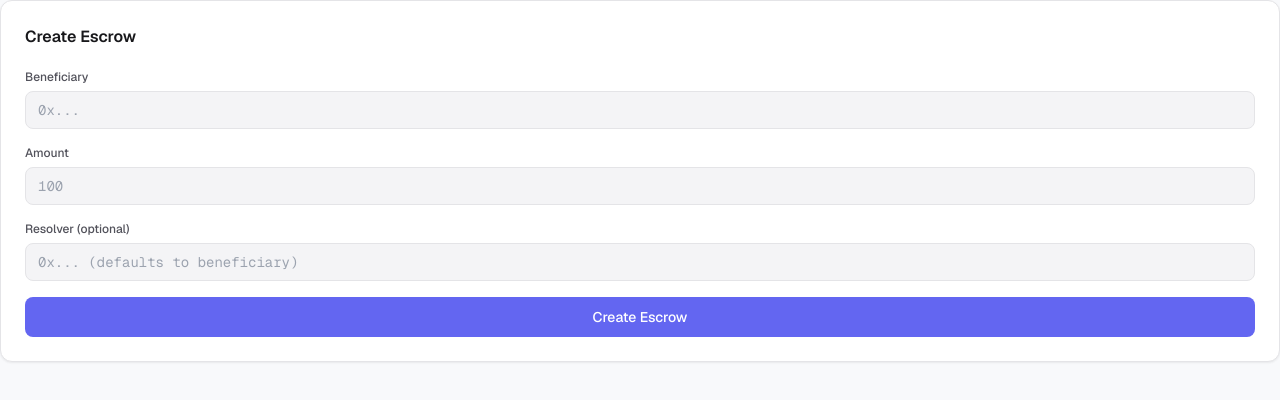
Test: CreateEscrowForm › validation prevents non-positive amount
Type "0xBen123" into the field labelled "Beneficiary" at (640, 110), box left=25, top=91, right=1255, bottom=129
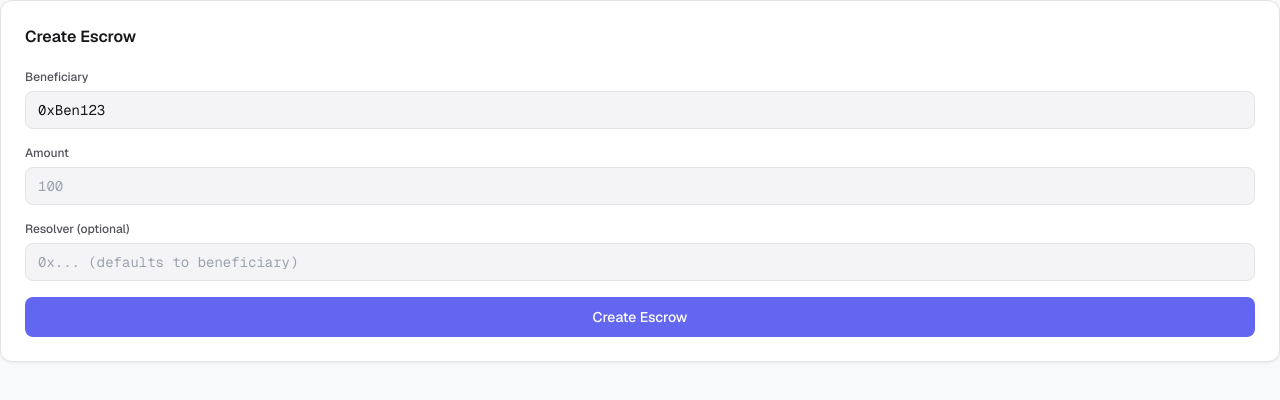
Type "0" into the field labelled "Amount" at (640, 186), box left=25, top=167, right=1255, bottom=205
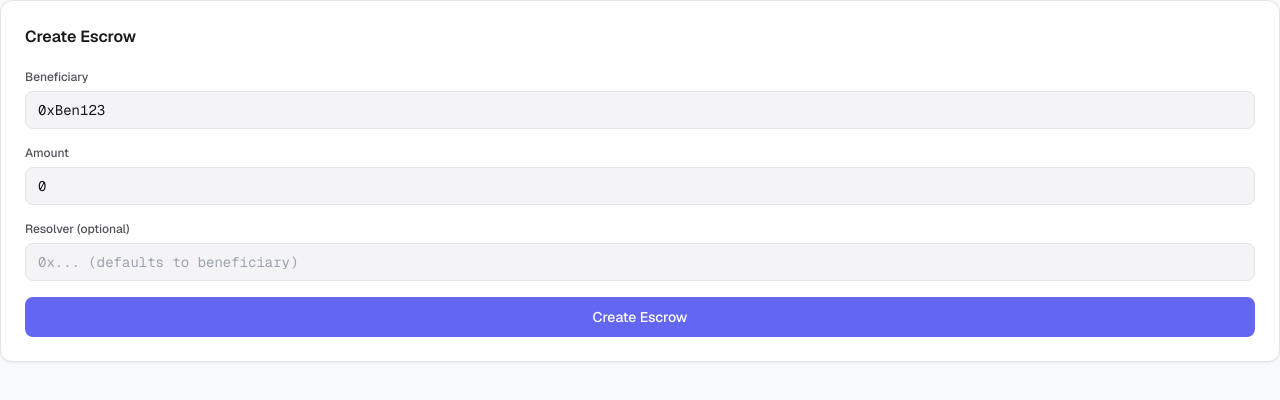
Click the button "Create Escrow" at (640, 317), box left=25, top=297, right=1255, bottom=337
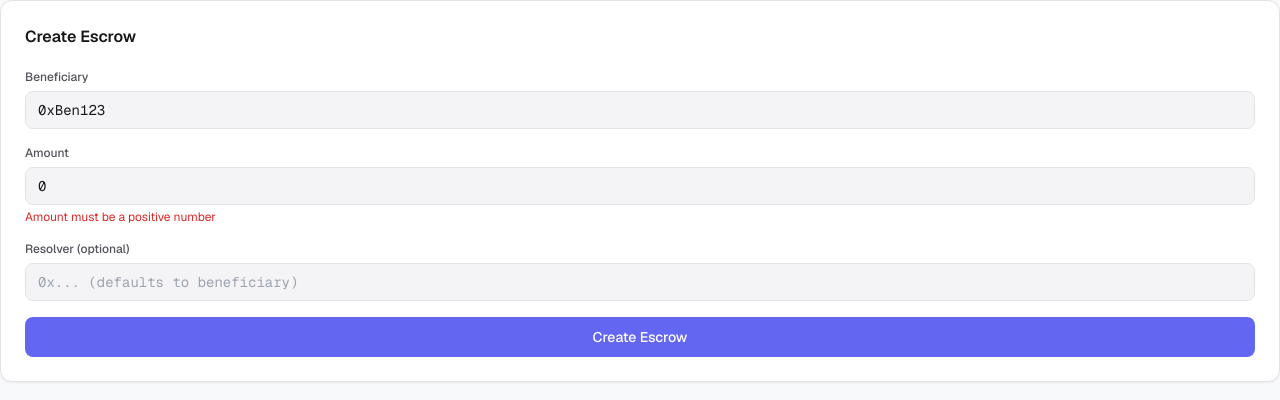
Expected: the text "Amount must be a positive number" is shown, left=25, top=209, right=216, bottom=225
